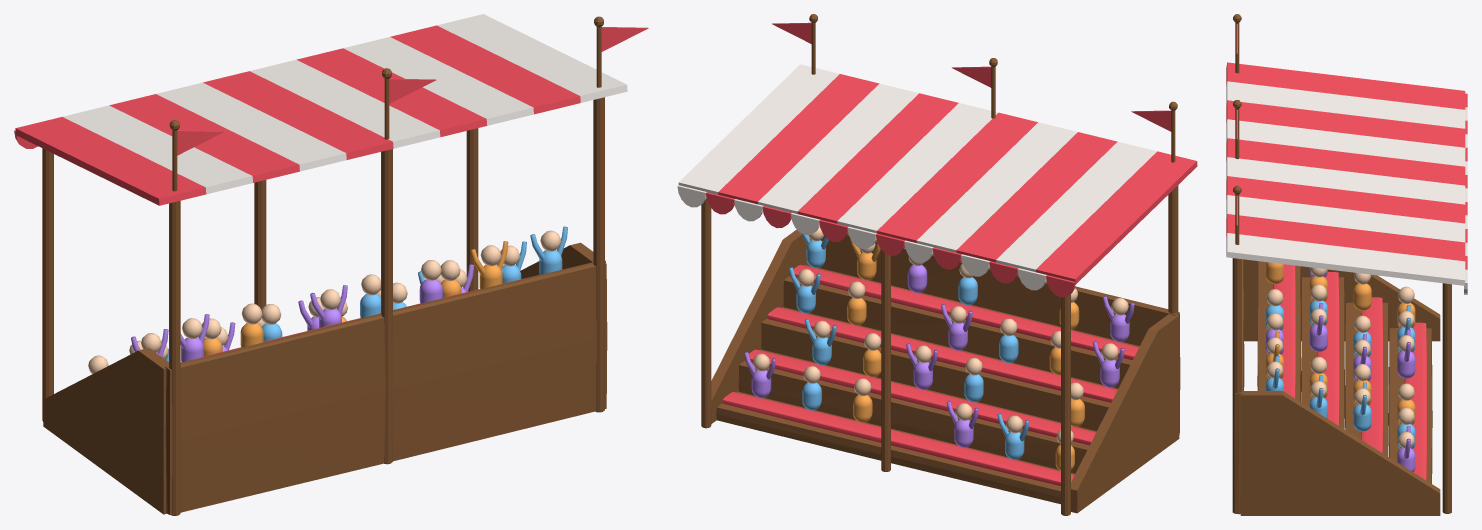
File: PumpGrandstand.obj
3 renders of one model, left to right at view 1: azimuth 30°, elevation 25°; view 2: azimuth 150°, elevation 25°; view 3: azimuth 270°, elevation 25°, orthographic. The views are drawn at different scales.
Visible parts, largest first — view 1: Frame, CanopyA, CanopyB, Heads, FansC, FansB, Flags, FansA; view 2: Frame, CanopyA, CanopyB, Seats, Heads, FansC, FansB, FansA, Flags; view 3: Frame, CanopyB, CanopyA, Seats, Heads, FansB, FansA, FansC.
Part boxes in pixels (bbox=[...]): Frame: bbox=[42, 16, 607, 515]; CanopyA: bbox=[14, 25, 580, 205]; CanopyB: bbox=[62, 14, 627, 194]; Heads: bbox=[88, 230, 561, 373]; FansC: bbox=[131, 264, 474, 362]; FansB: bbox=[165, 226, 567, 361]; Flags: bbox=[177, 27, 648, 155]; FansA: bbox=[203, 241, 508, 356]; Frame: bbox=[701, 14, 1180, 515]; CanopyA: bbox=[706, 74, 1197, 297]; CanopyB: bbox=[677, 64, 1156, 290]; Seats: bbox=[722, 264, 1138, 486]; Heads: bbox=[752, 226, 1128, 443]; FansC: bbox=[744, 265, 1134, 447]; FansB: bbox=[789, 233, 1029, 459]; FansA: bbox=[847, 238, 1084, 471]; Flags: bbox=[772, 22, 1171, 131]; Frame: bbox=[1232, 14, 1451, 515]; CanopyB: bbox=[1226, 81, 1467, 294]; CanopyA: bbox=[1226, 62, 1467, 269]; Seats: bbox=[1273, 264, 1426, 480]; Heads: bbox=[1266, 267, 1414, 448]; FansB: bbox=[1265, 300, 1415, 448]; FansA: bbox=[1265, 262, 1415, 424]; FansC: bbox=[1265, 267, 1415, 471].
Bounding box in the file's own units: 27.1 × 20.56 × 13.77.
